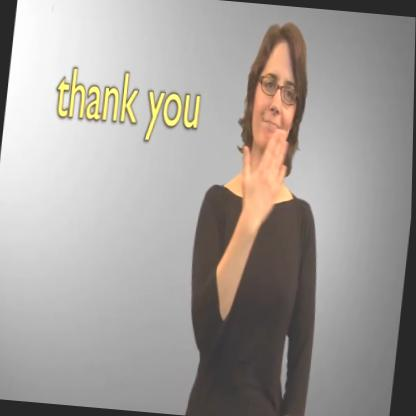ThankYou: (180, 16, 333, 360)
